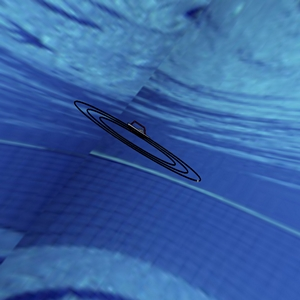circle: (57, 79, 210, 192)
submarine: (122, 111, 153, 142)
